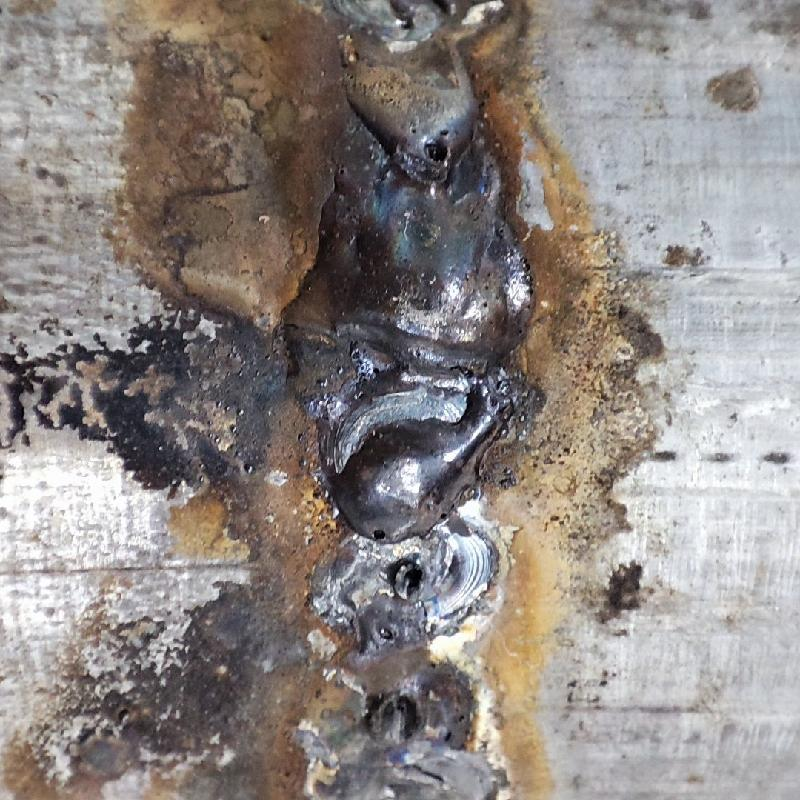Not_fully_soldered: (303, 535, 510, 796)
Surface_pores: (398, 115, 461, 171), (364, 520, 417, 559)
Weld: (291, 181, 545, 545)
